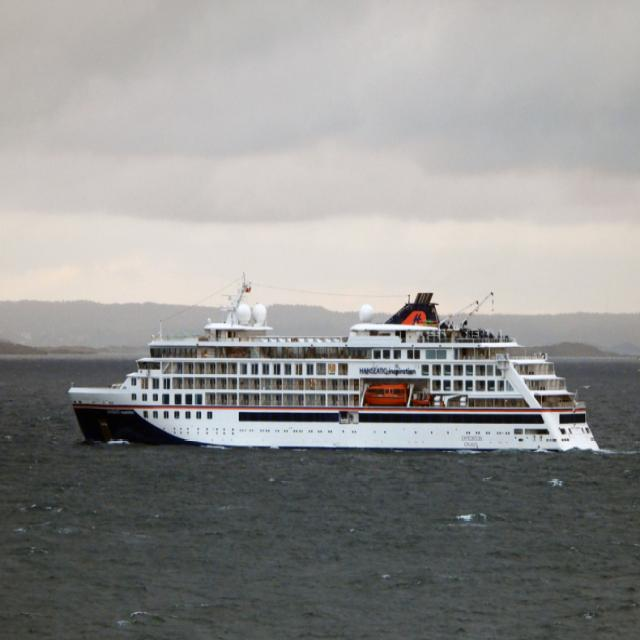cruises: (65, 284, 601, 460)
